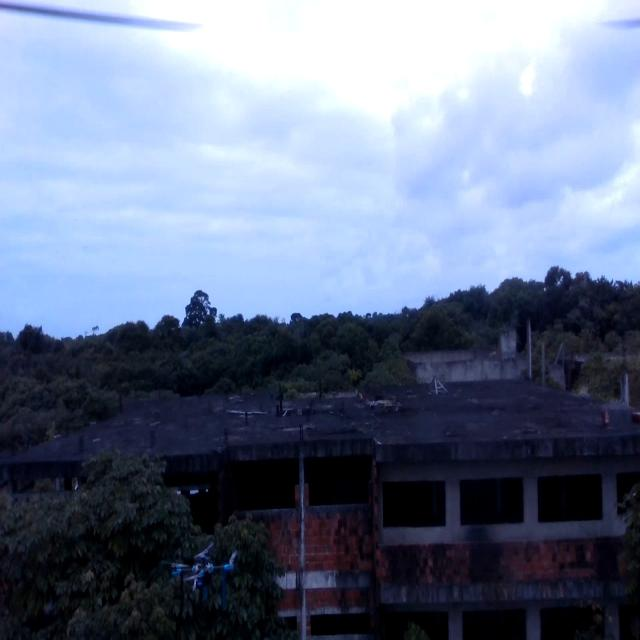-uav-: (162, 547, 240, 616)
